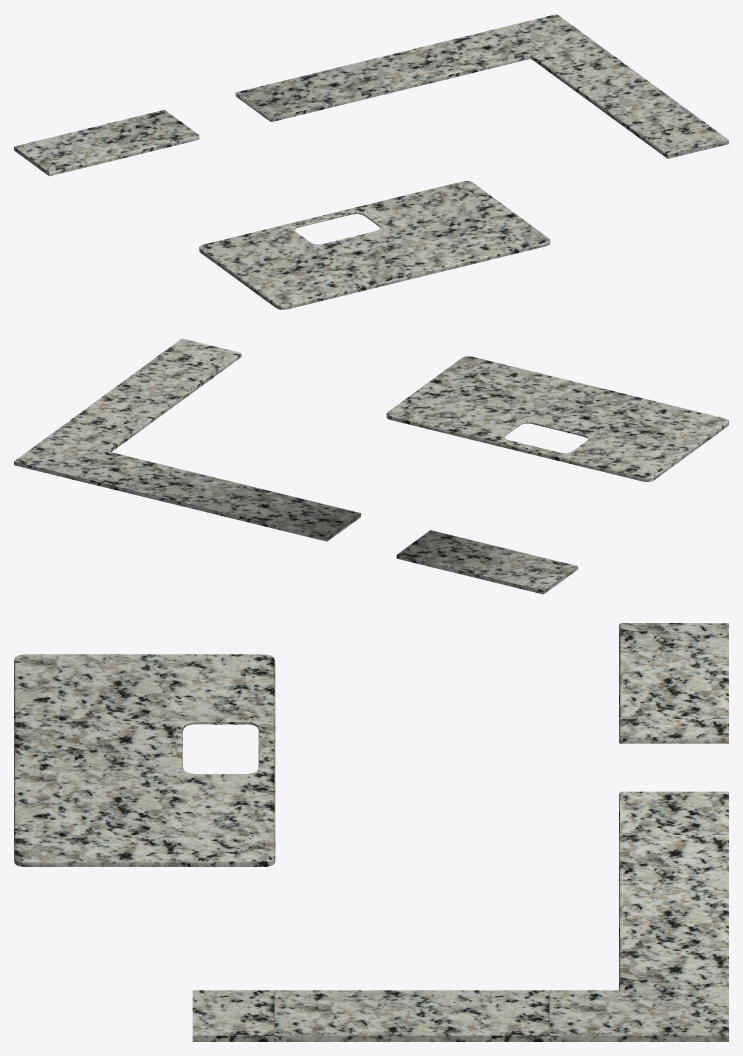
The model's file is 1989_kitchen_Countertops_GraniteValleNevado.gltf.
3 renders of one model, top to bottom at view 1: azimuth 30°, elevation 25°; view 2: azimuth 150°, elevation 25°; view 3: azimuth 270°, elevation 25°, orthographic. The views are drawn at different scales.
Parts seen in each view (by area): view 1: Countertop_granite_valle_nevado.001; view 2: Countertop_granite_valle_nevado.001; view 3: Countertop_granite_valle_nevado.001.
Part boxes in pixels (x1,y1,x2,y2): Countertop_granite_valle_nevado.001: (14, 14, 728, 309); Countertop_granite_valle_nevado.001: (14, 338, 728, 594); Countertop_granite_valle_nevado.001: (14, 623, 728, 1041).
Size of the model in its own units: 7.1 by 0.07 by 5.2.
Materials: 1 (1 with a texture image).
